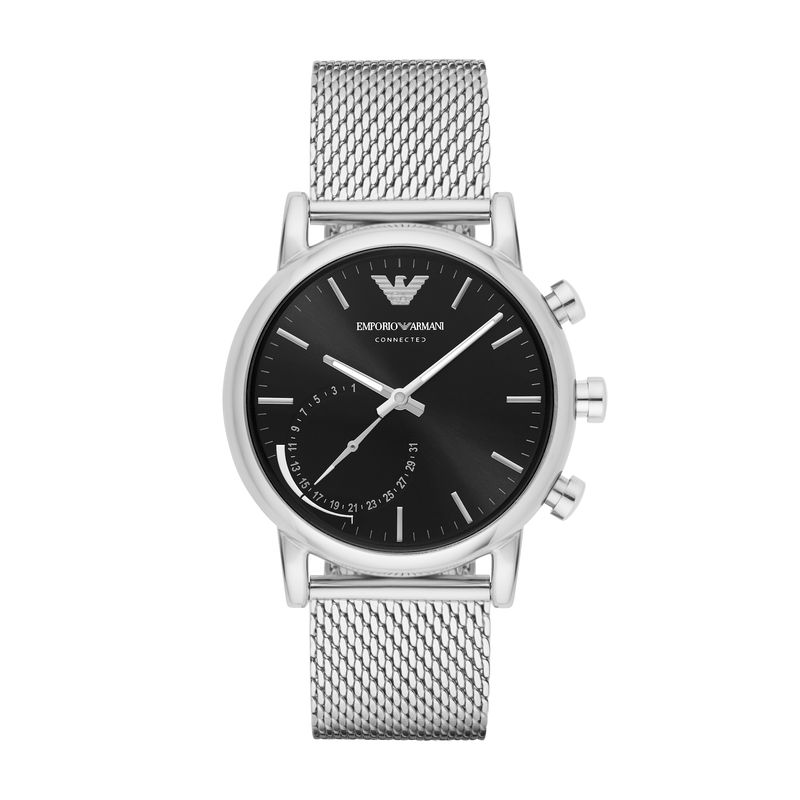clock: (222, 224, 581, 579)
